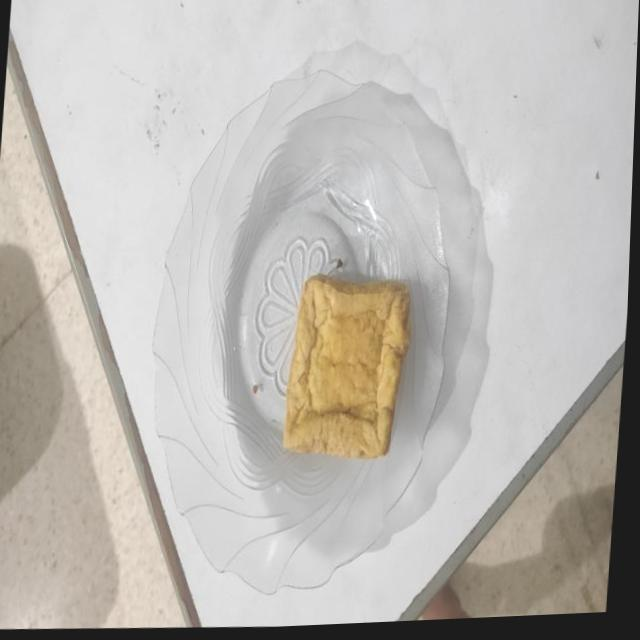tahu_goreng: (284, 274, 409, 458)
